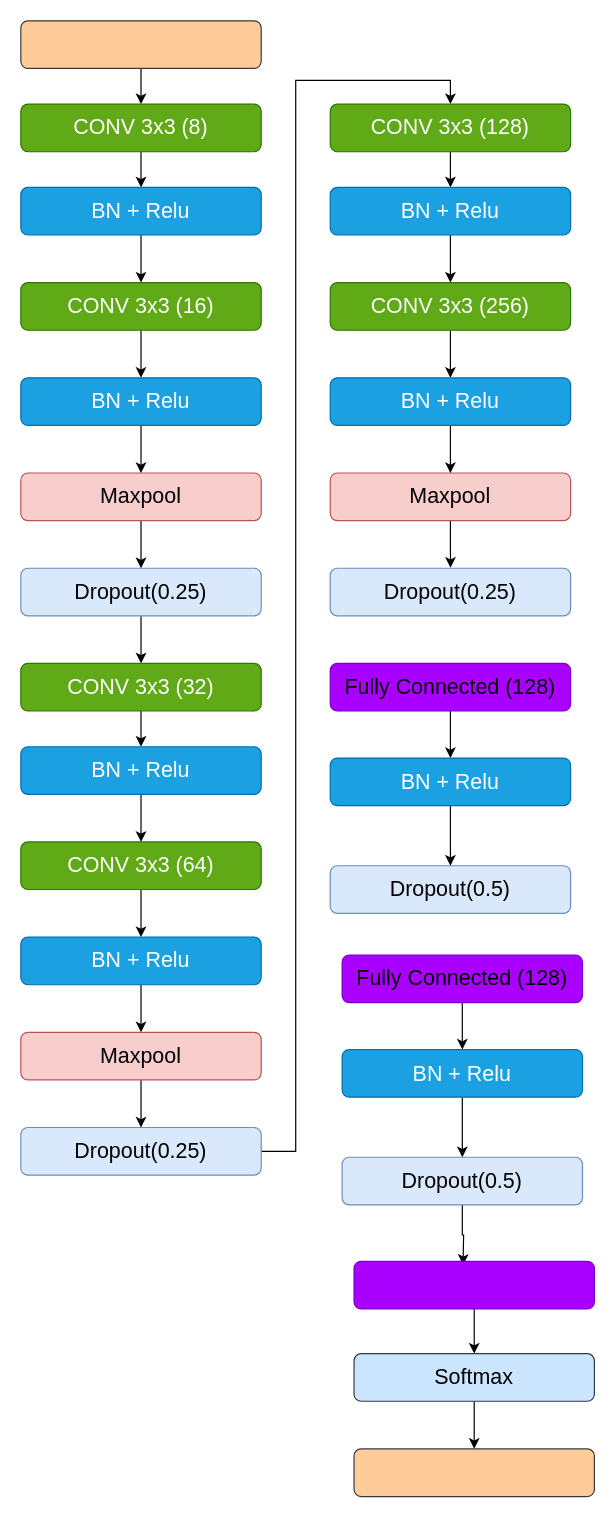
The diagram is 615 pixels wide and 1518 high, and some of its shapes have lost their labels. The box of each missing label's shape, as (x1, y1, x2, y2) in pixels:
Fully Connected (10): (353, 1260, 594, 1309)
Input(64x64x1): (20, 20, 261, 68)
Output: (353, 1448, 594, 1497)
